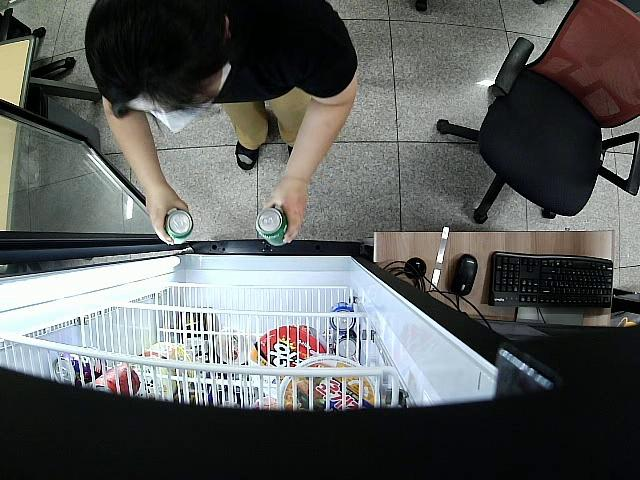00_hand: (261, 186, 309, 245), (145, 184, 187, 245)
12_chilsungCider: (257, 209, 288, 247), (164, 209, 192, 246)
